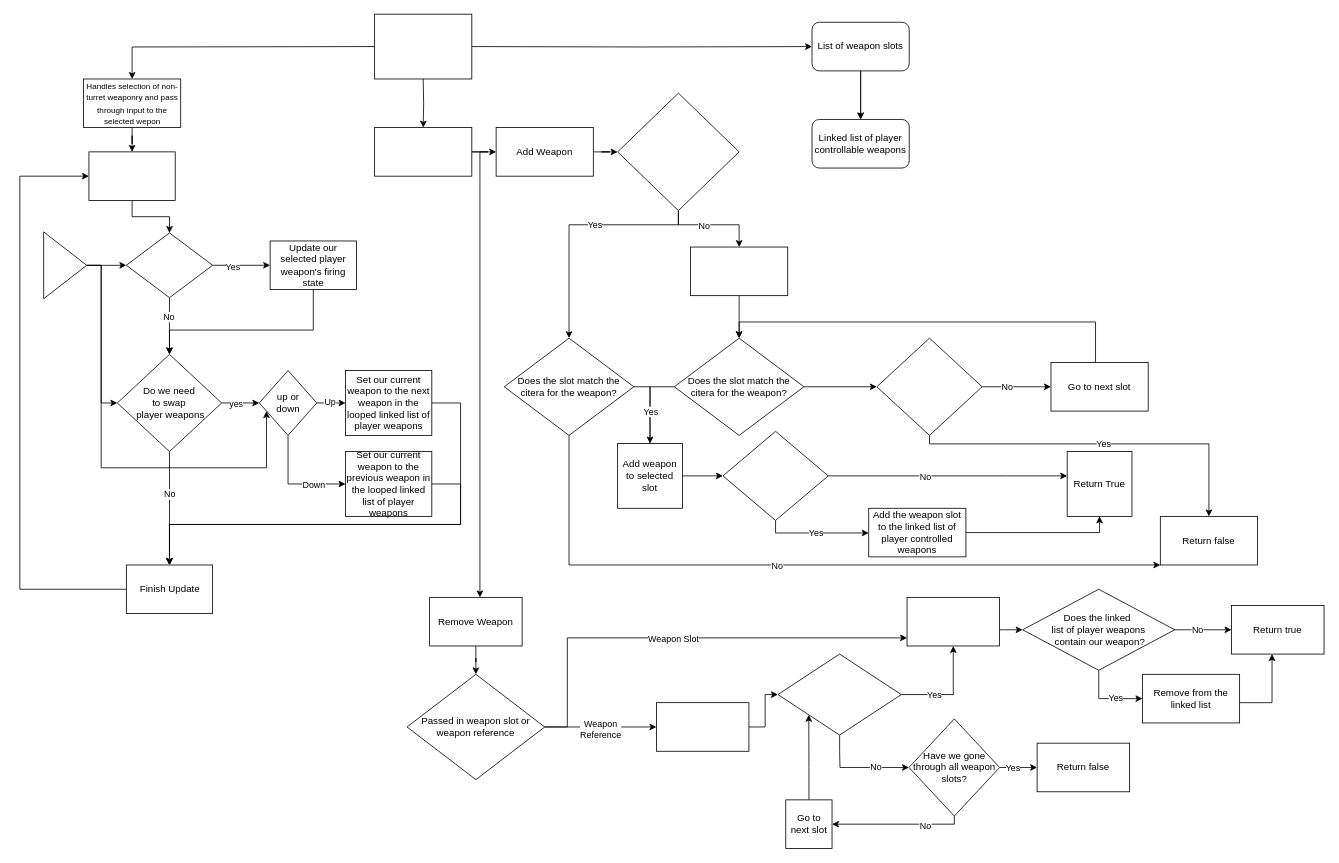
The diagram is 1339 pixels wide and 863 high, and some of its shapes have lost their labels. The centre of each missing label's shape, as x and y in pixels:
"Does the slot contain our weapon reference" goes at (839,694).
"Go to first slot" goes at (702,726).
"Go to the first slot" goes at (739,271).
"Have we gone though all the slots" goes at (929,386).
"Is it a player controlled weapon?" goes at (775,475).
"Is there a specific slot desired for the weapon" goes at (678,151).
"Methods or adding and removing wepons from slots" goes at (423,151).
"Player Input" goes at (65,265).
"Remove weapon at slot" goes at (953,621).
"Update" goes at (131,175).
"Was our desired firing state updated?" goes at (169,265).
"Weapon Manager" goes at (423,46).
